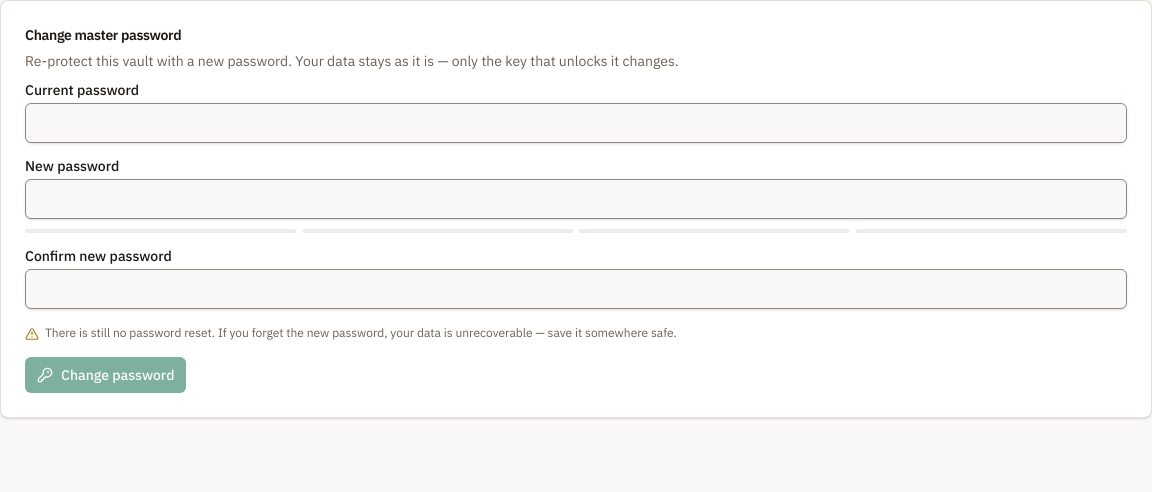
Test: ChangePasswordCard › surfaces a wrong current password inline
Step 1. Type "wrong password" into the password field labelled "Current password" → x=576, y=123, box [25,103,1127,143]
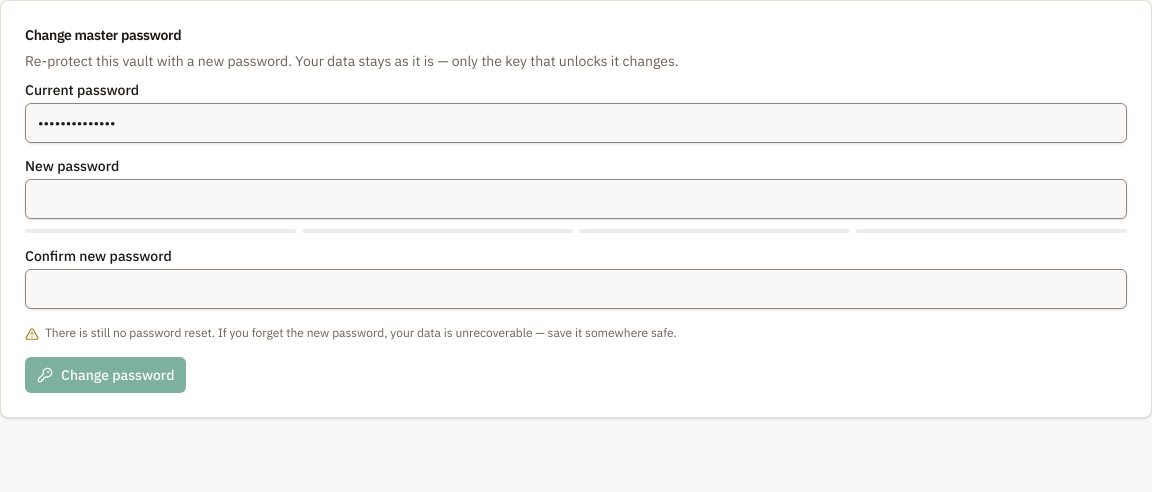
Step 2. Type "new password 12" into the password field labelled "New password" → x=576, y=199, box [25,179,1127,219]
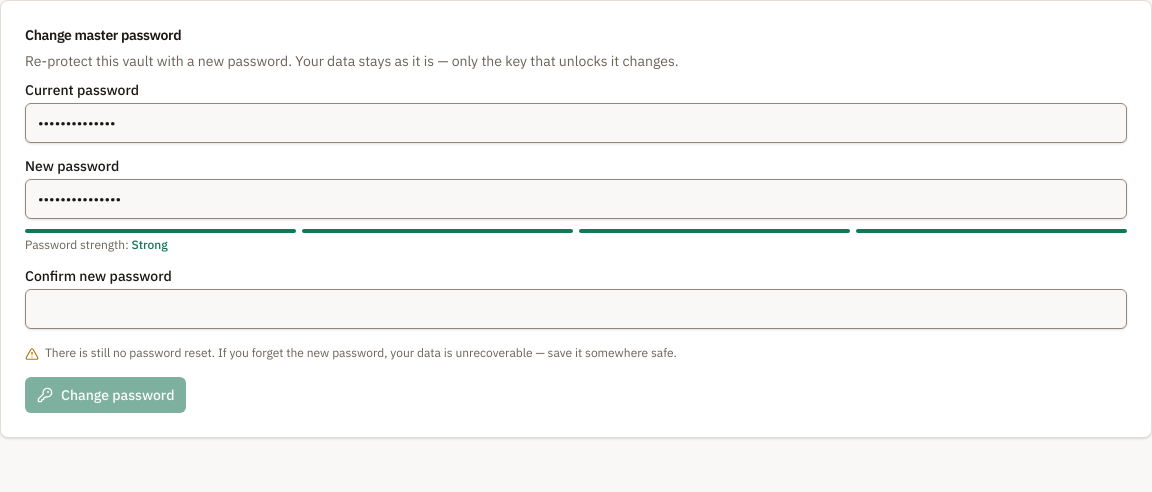
Step 3. Type "new password 12" into the password field labelled "Confirm new password" → x=576, y=309, box [25,289,1127,329]
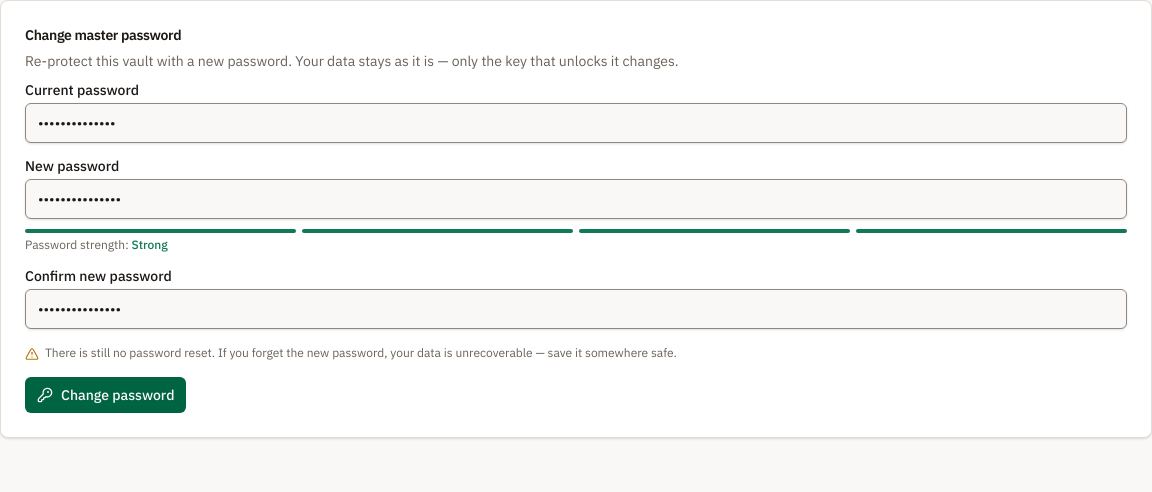
Step 4. Click the button "Change password" → x=106, y=395, box [25,377,186,413]
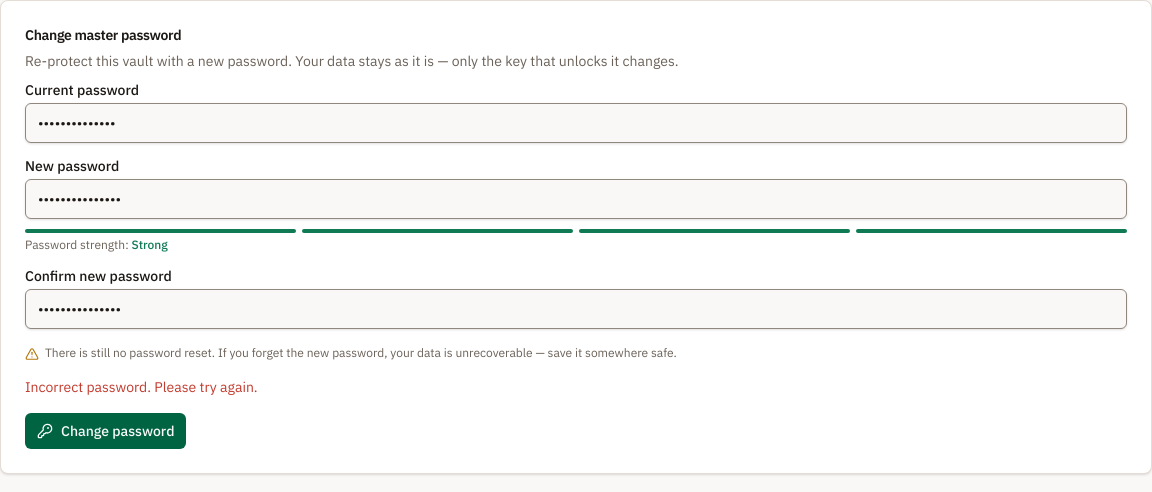
Now the message shows "Incorrect password", box [25,378,258,396]
